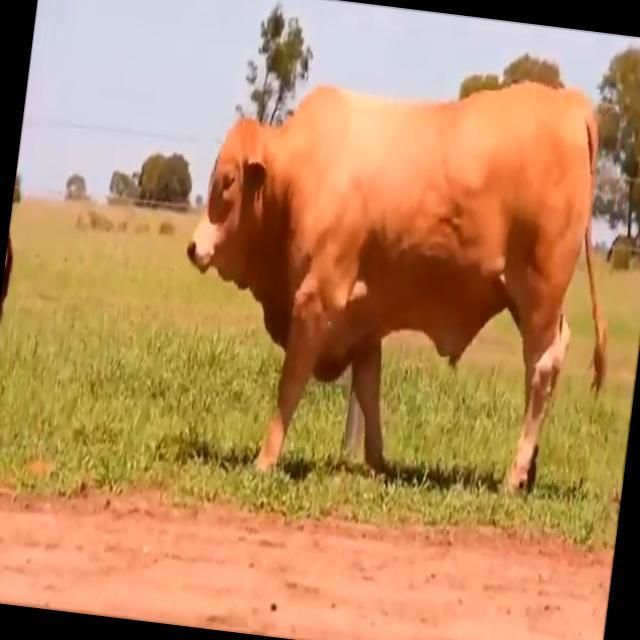COW: (187, 83, 597, 489)
